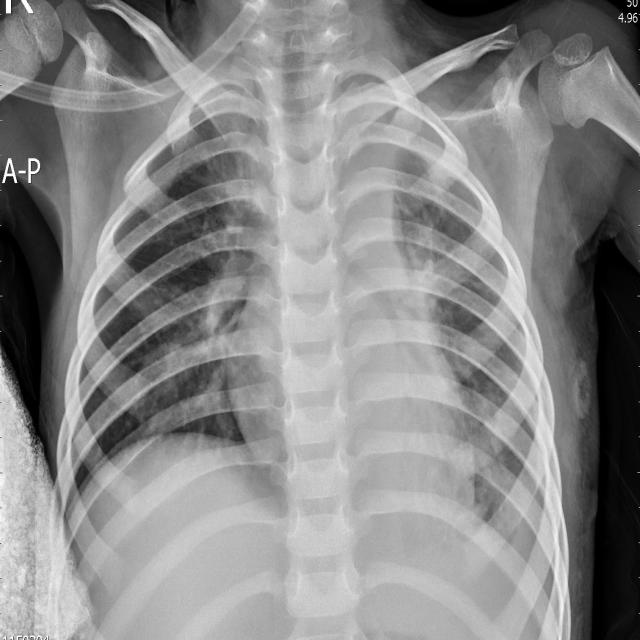low-pneumonia: (156, 95, 256, 436), (396, 173, 476, 358), (471, 397, 537, 533)
